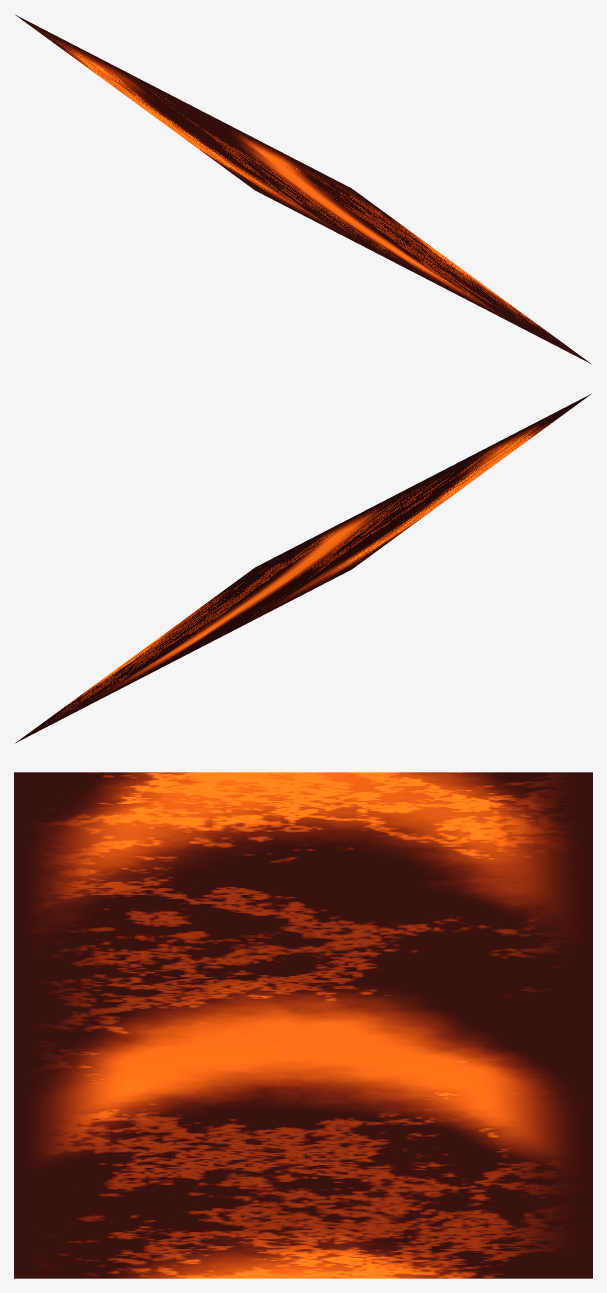
Rendered from ripple_36.glb.
The picture shows the model from 3 angles, top to bottom: view 1: azimuth 30°, elevation 25°; view 2: azimuth 150°, elevation 25°; view 3: azimuth 270°, elevation 25°; orthographic projection. The views are drawn at different scales.
Parts seen in each view (by area): view 1: r; view 2: r; view 3: r.
Boxes of the visible parts, x1,y1,x2,y2 form: r: (15,14,591,364); r: (15,393,591,743); r: (14,772,592,1278).
Size of the model in its own units: 0.809 by 0.5878 by 1.
1 material, 1 textured.
